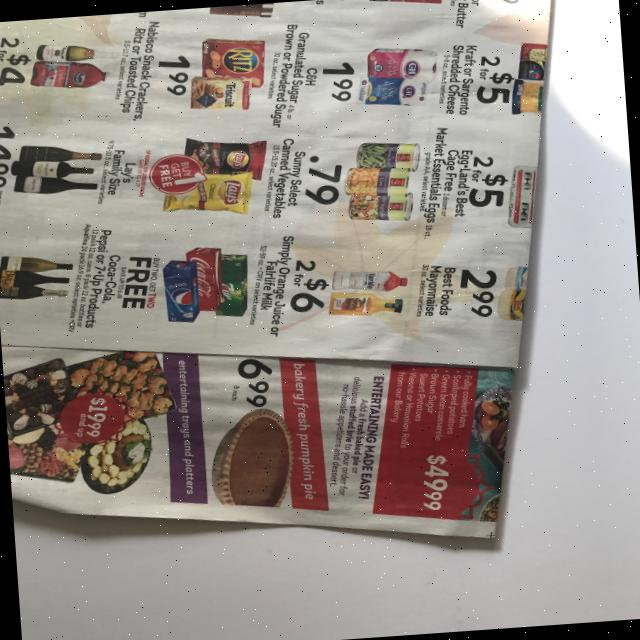paper: (0, 0, 592, 572)
